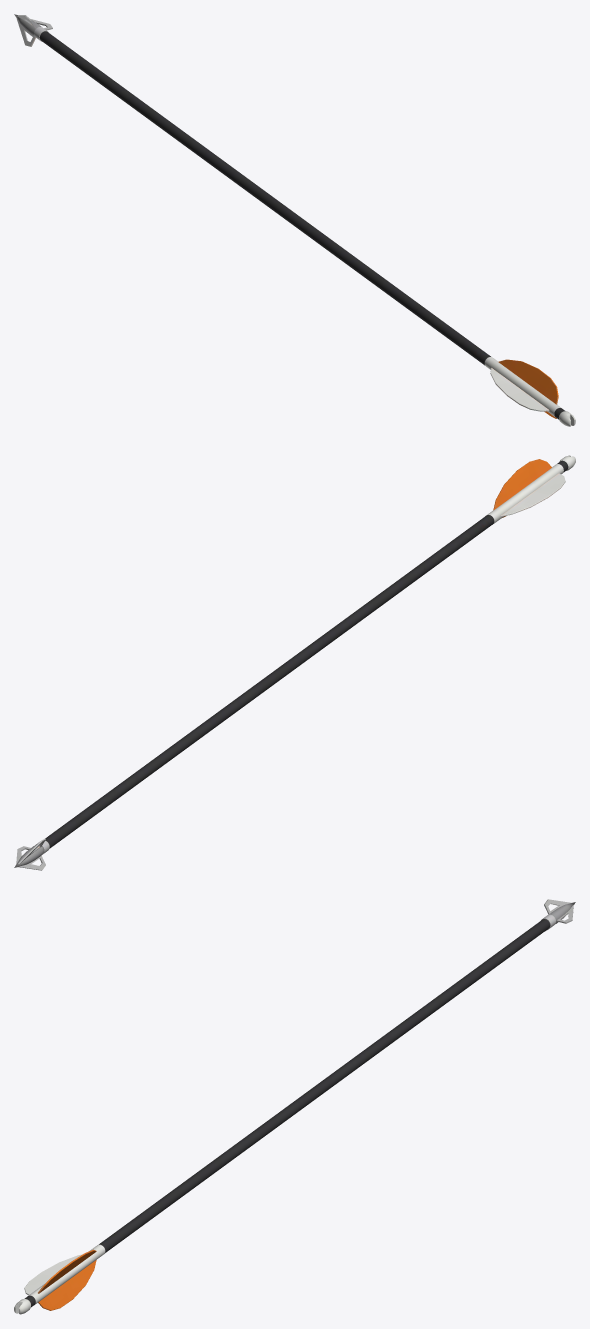
File: flecha_caca.glb
3 renders of one model, top to bottom at view 1: azimuth 30°, elevation 25°; view 2: azimuth 150°, elevation 25°; view 3: azimuth 330°, elevation 25°, orthographic.
Visible parts, largest first — view 1: flecha_caca_flecha; view 2: flecha_caca_flecha; view 3: flecha_caca_flecha.
Part boxes in pixels (x1,y1,x2,y2): flecha_caca_flecha: [14, 14, 575, 426]; flecha_caca_flecha: [14, 455, 575, 870]; flecha_caca_flecha: [14, 899, 575, 1314].
Bounding box in the file's own units: 0.0283 × 0.0279 × 0.732.
1 material, 1 textured.
